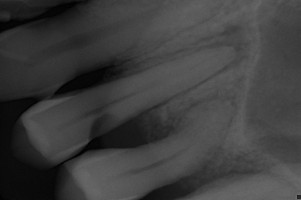Furcation Involvement: (195, 20, 252, 67)
